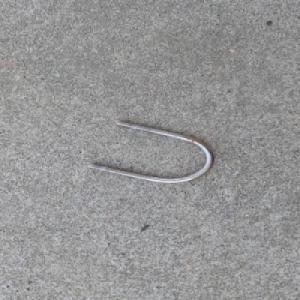ClampPart: (87, 120, 216, 183)
